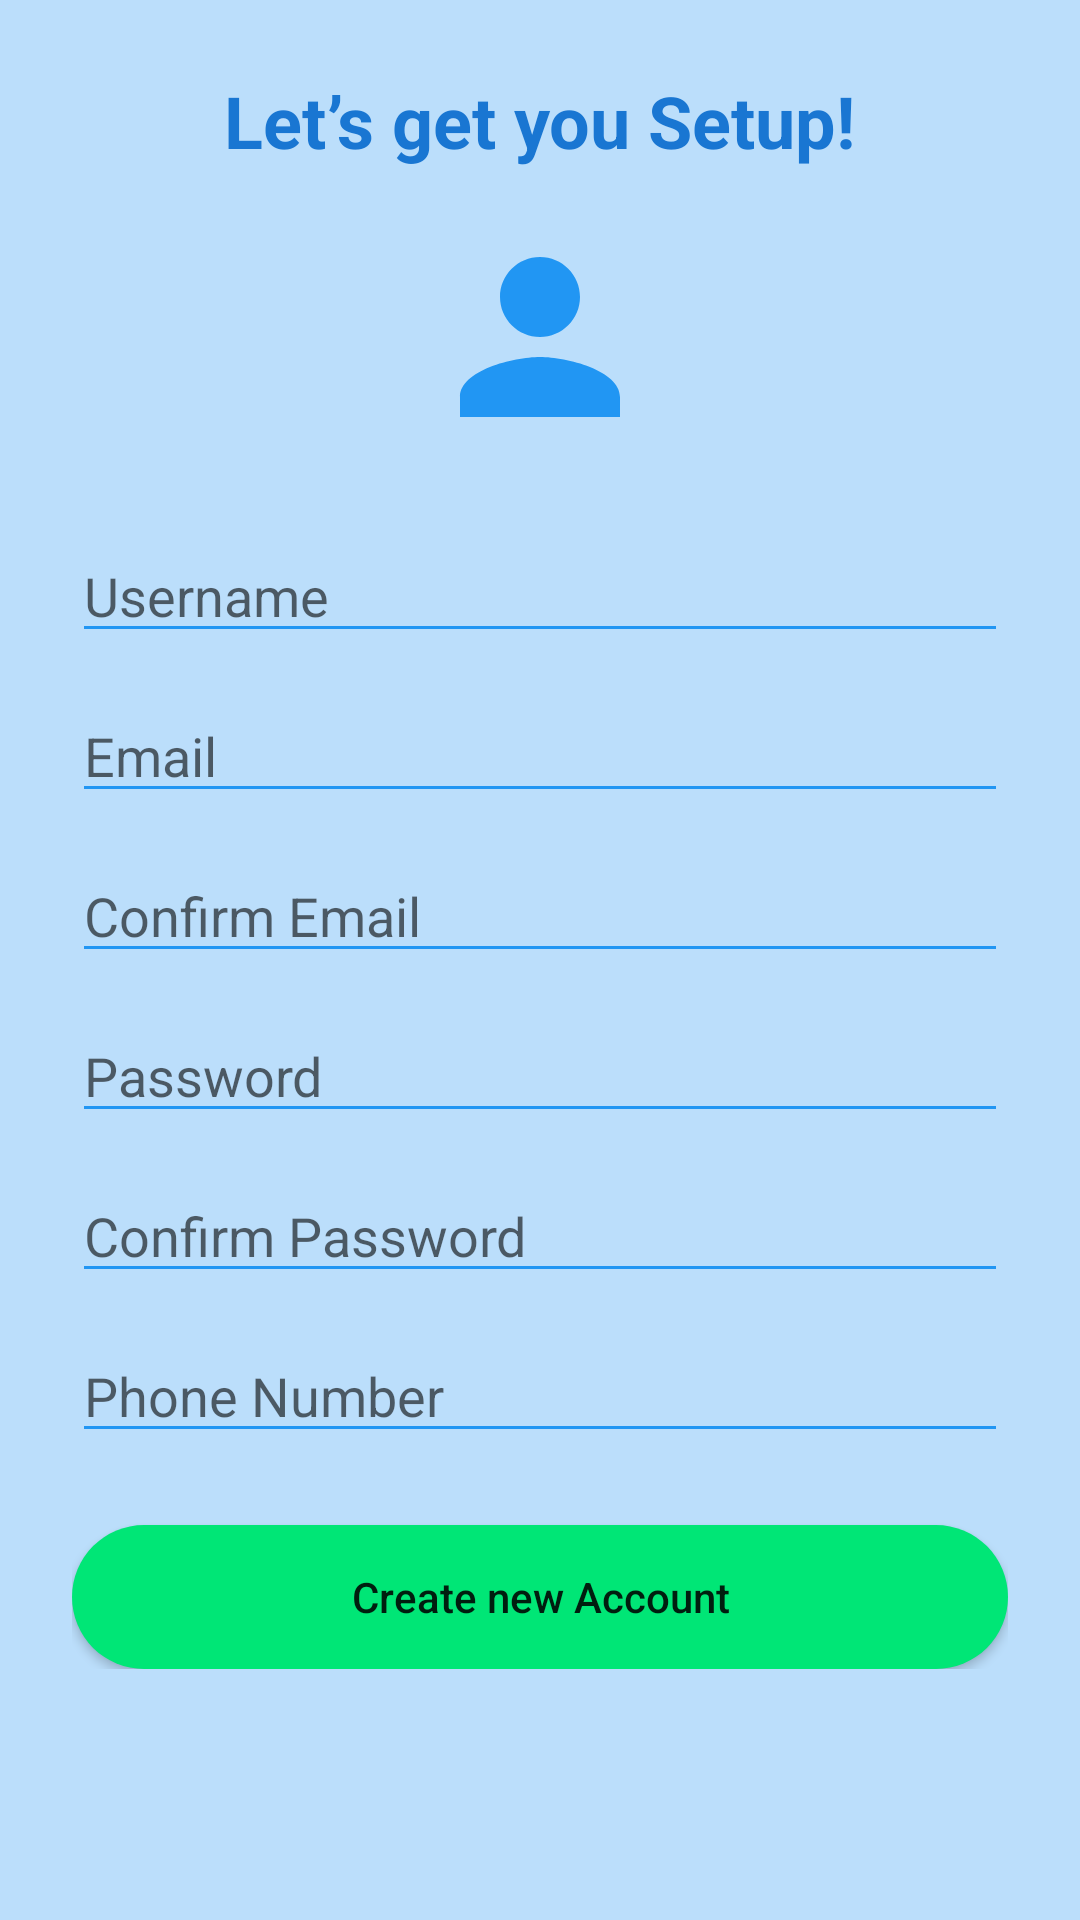

Screen size 1080*1920. Icon name, then its center in pixels as (x,y):
account circle: (540,337)
